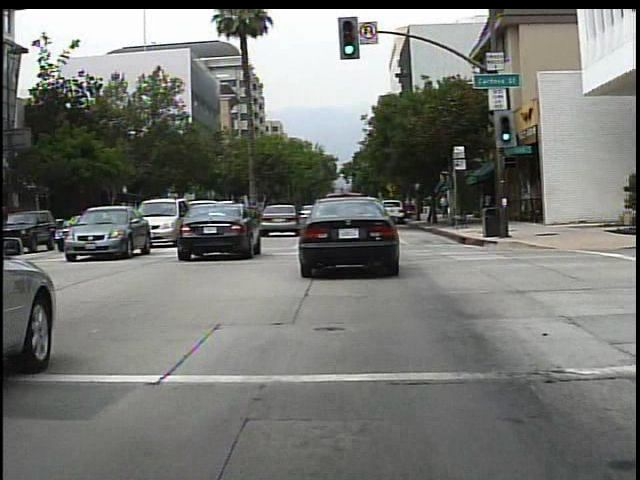person: (435, 191, 454, 225)
